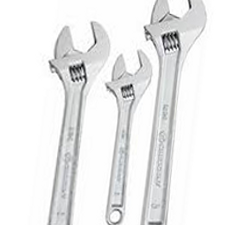wrench: (140, 1, 212, 225)
